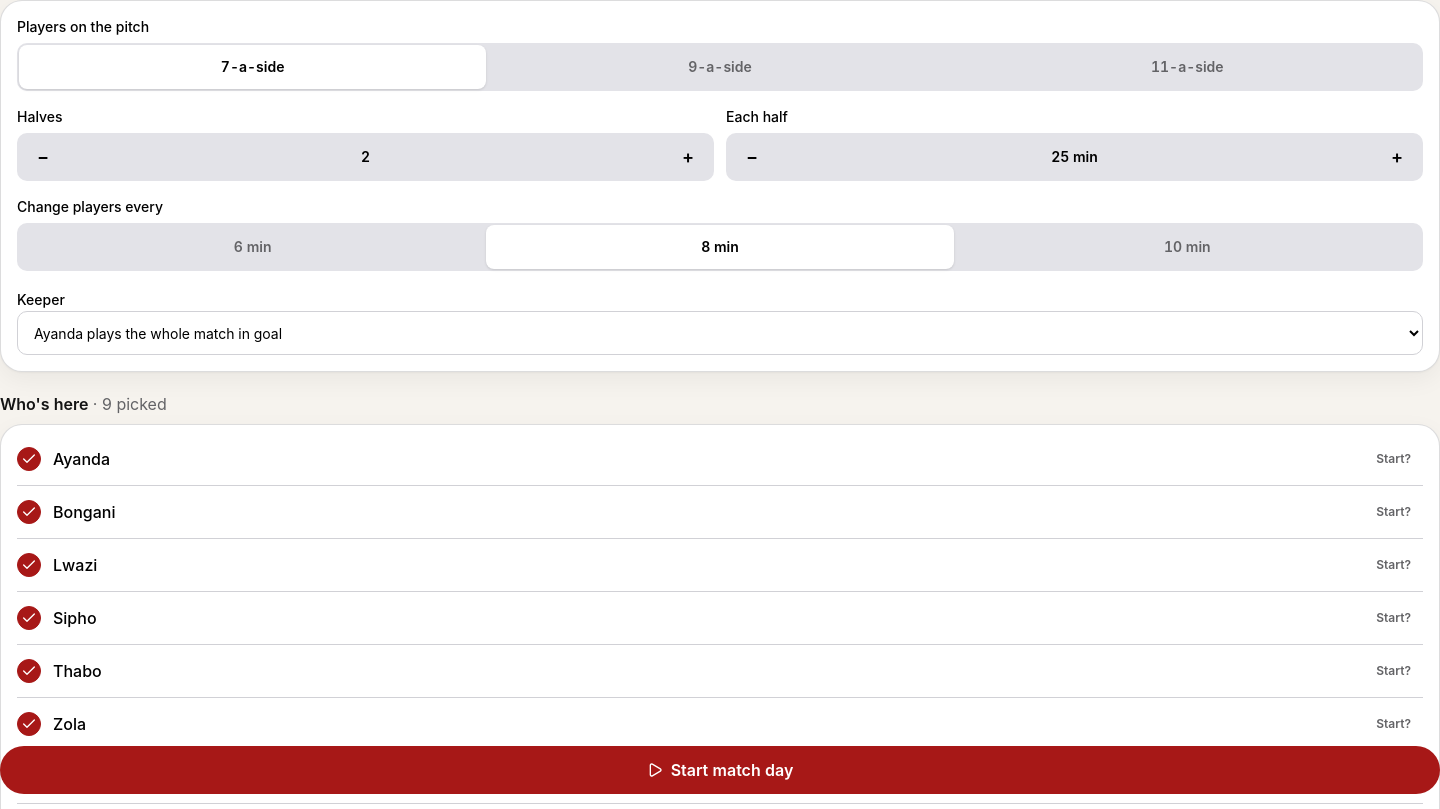
Test: MinutesPlanner › shows a fair plan and starts a match that survives a reload
Step 1. Click the button "Start match day" → point(720, 770), box [0,746,1439,794]
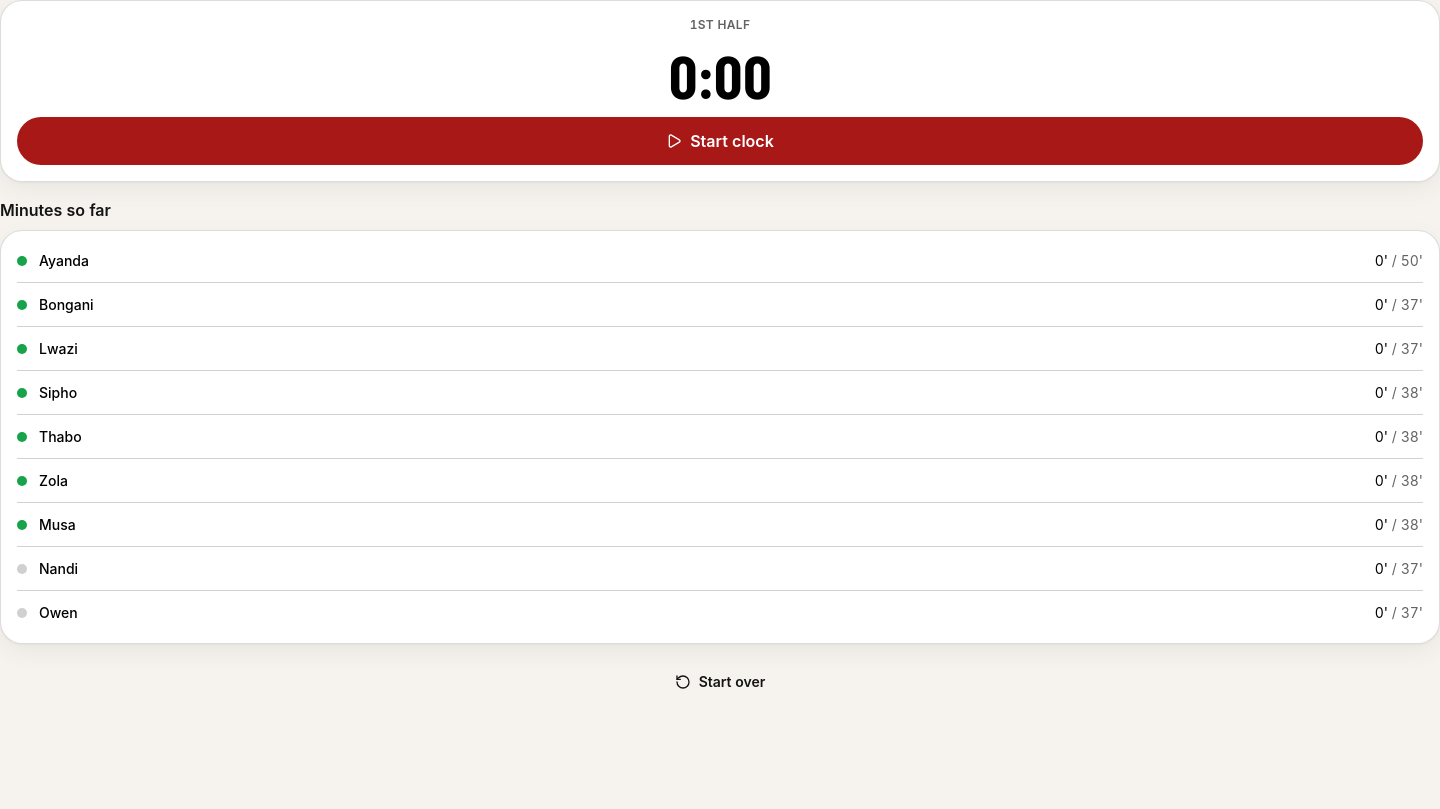
Expected: the text named "Match clock" reads "0:00", [668,39,772,111]
